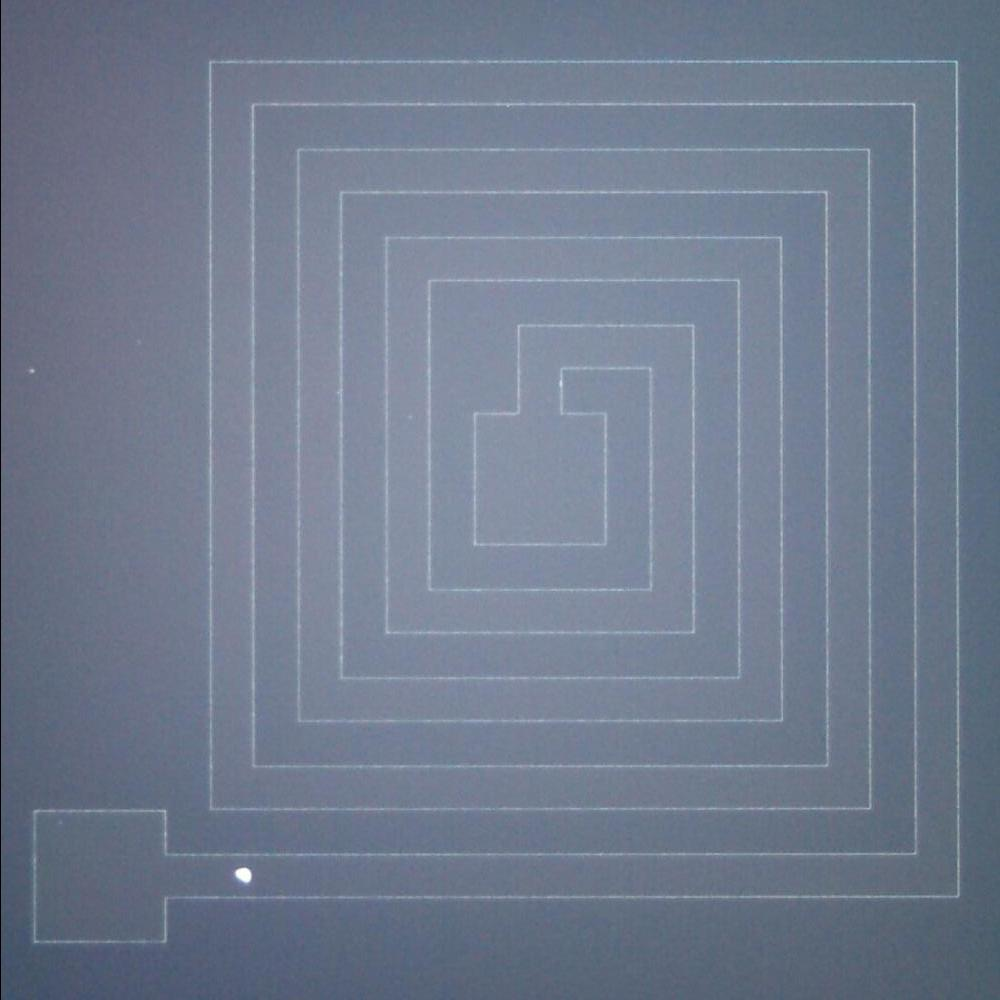spot: (225, 854, 262, 892)
